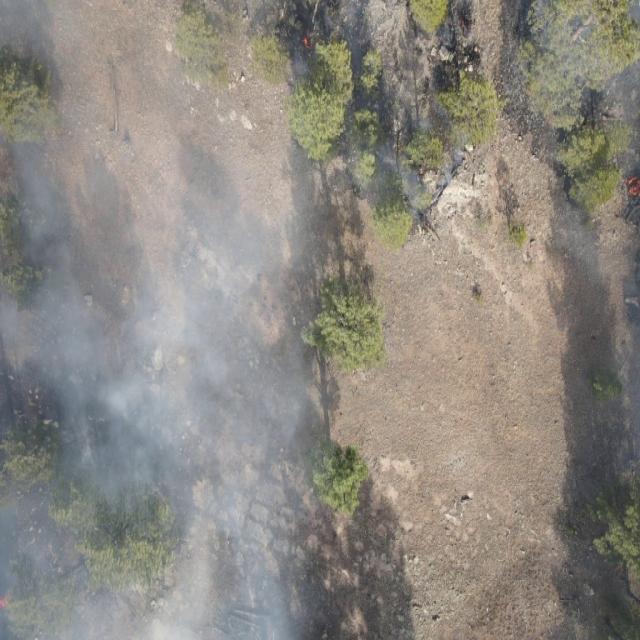fire: (625, 173, 640, 198), (300, 36, 316, 52), (0, 595, 13, 611)
smoke: (0, 0, 341, 640), (340, 0, 476, 218), (516, 0, 640, 146), (554, 146, 640, 296), (610, 297, 640, 483)
